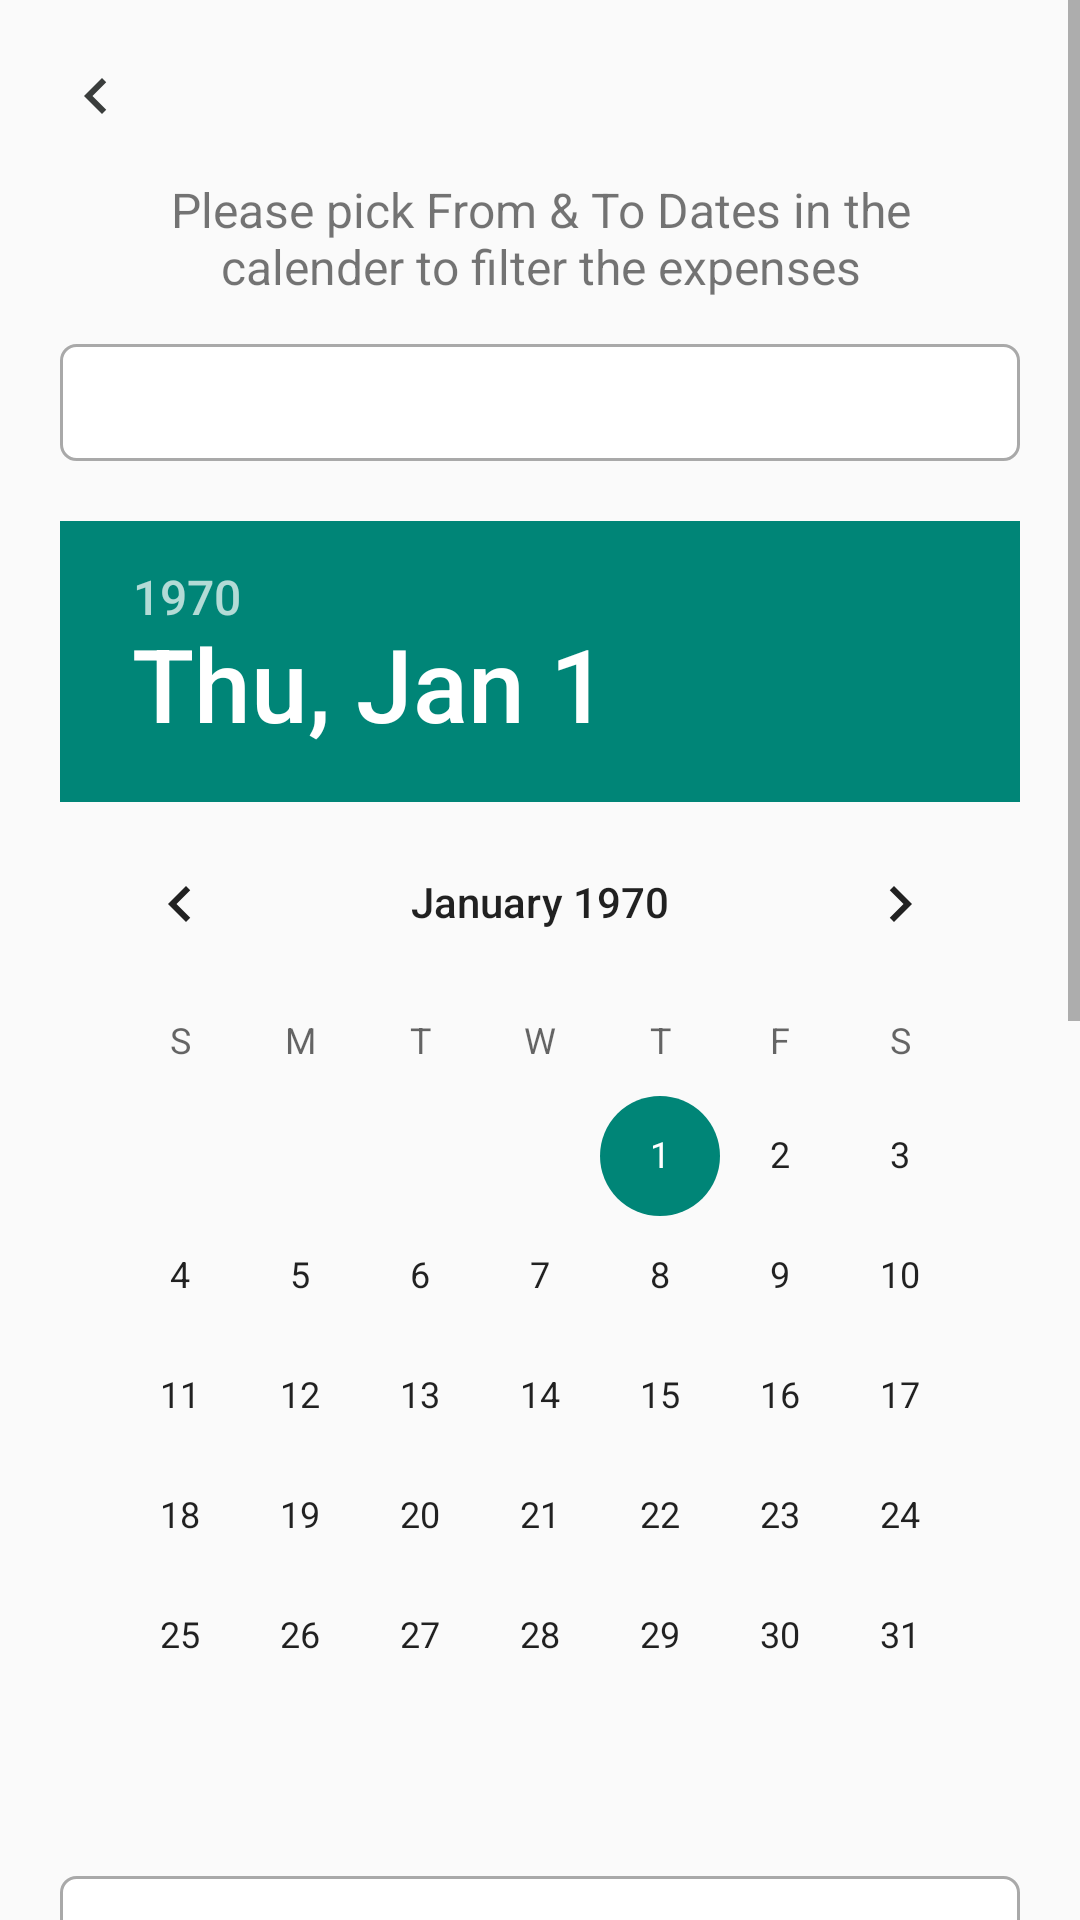

Where to tap for icons on this 1080px x 1920px app screen, as [x,y]:
chevron left: [95,96]
